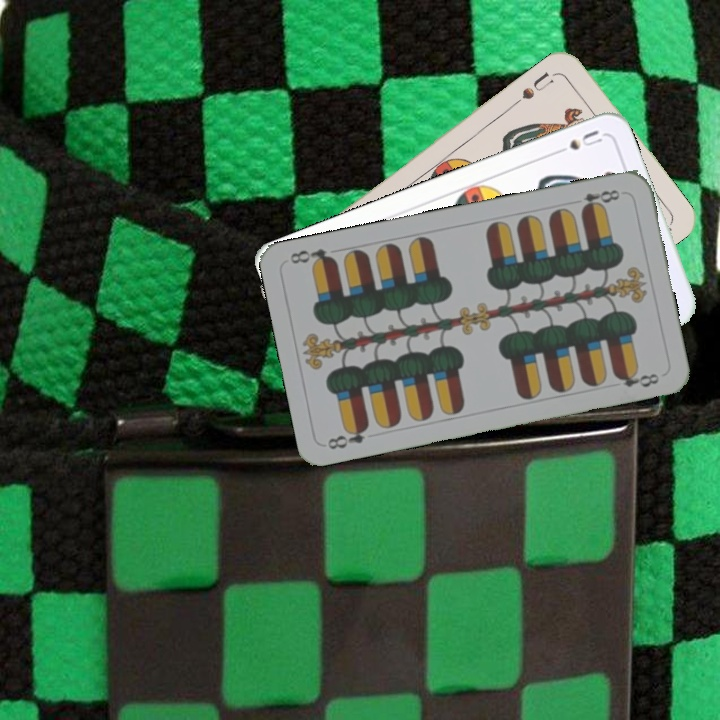E8: (323, 421, 371, 452), (577, 185, 623, 214)
SU: (511, 67, 556, 107), (549, 126, 605, 158)
